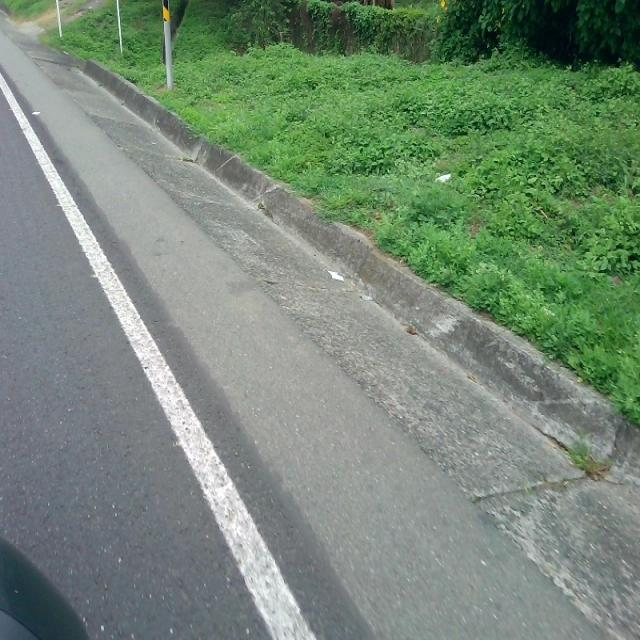DITCH: (1, 8, 638, 638)
